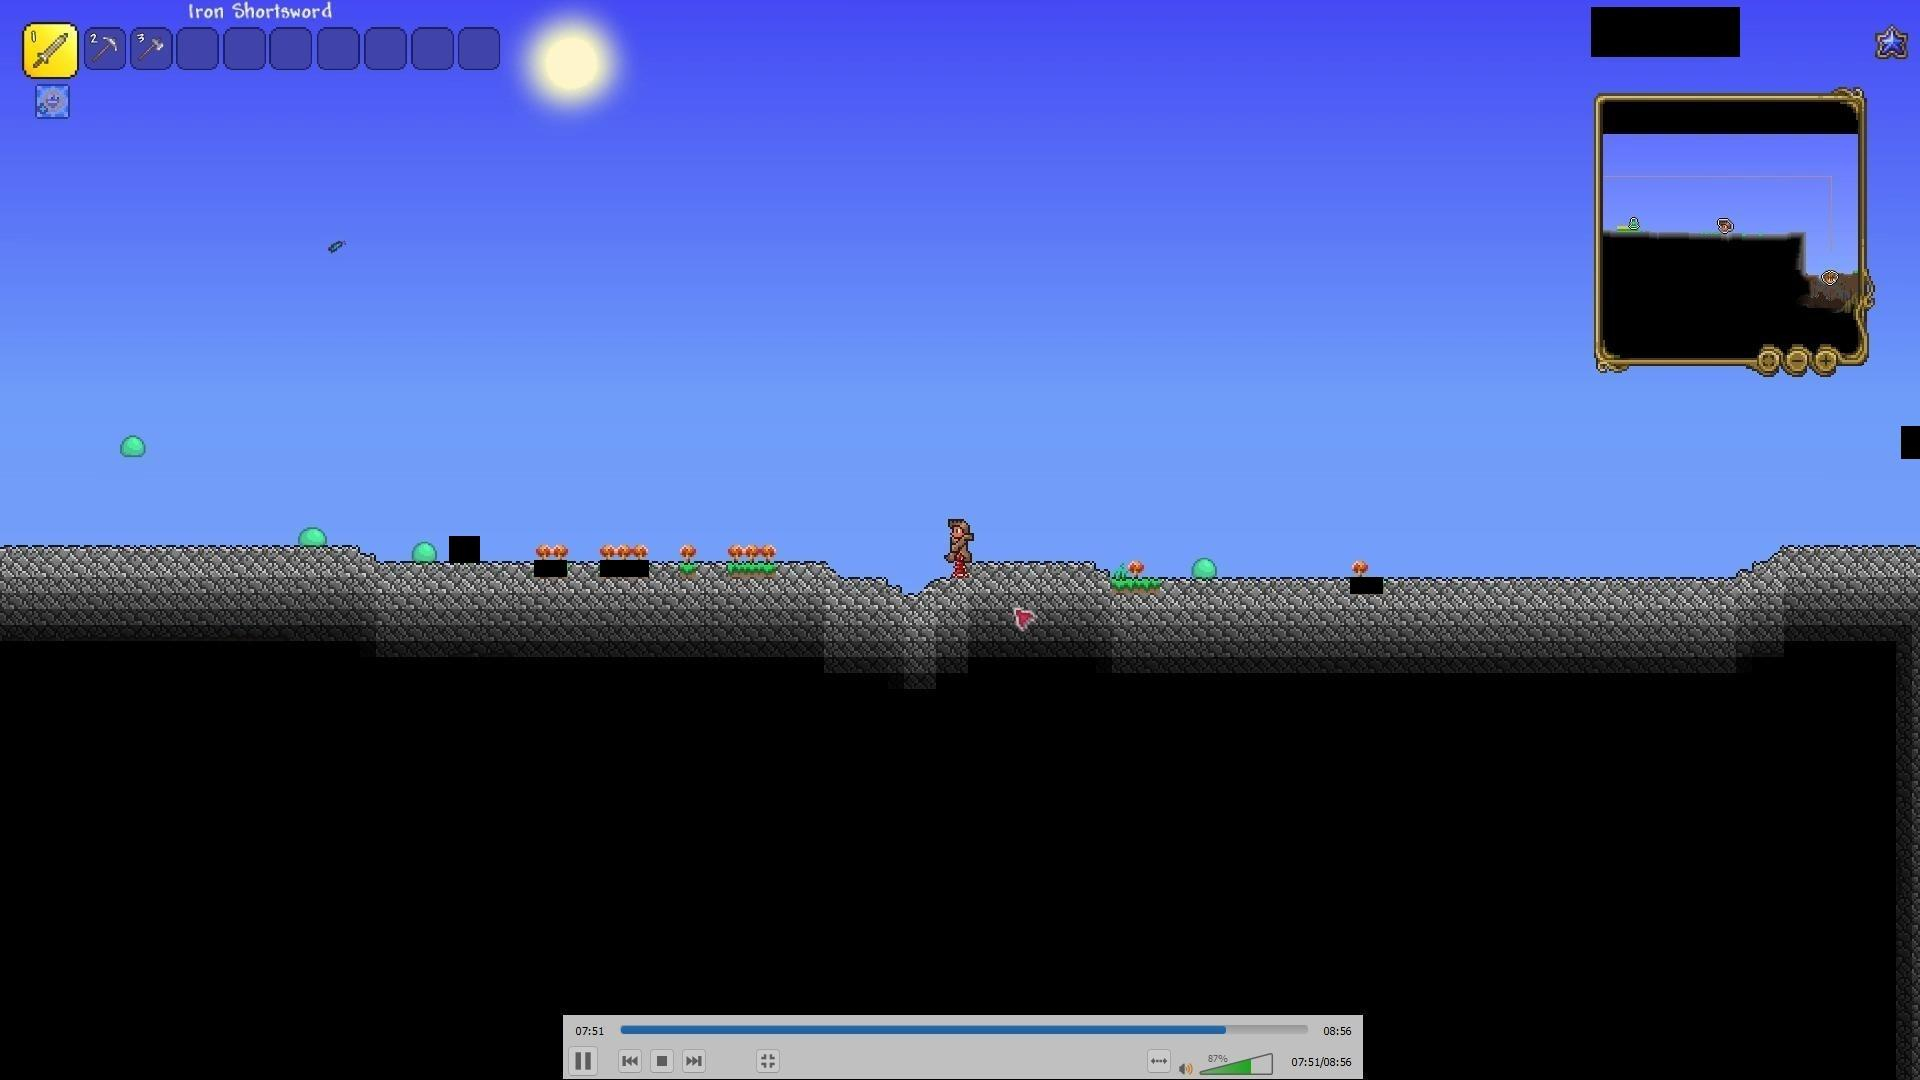dirt: (1112, 578, 1159, 595), (727, 562, 774, 579)
slime: (295, 520, 331, 549), (117, 431, 150, 462), (407, 537, 439, 563), (1189, 553, 1220, 578)
